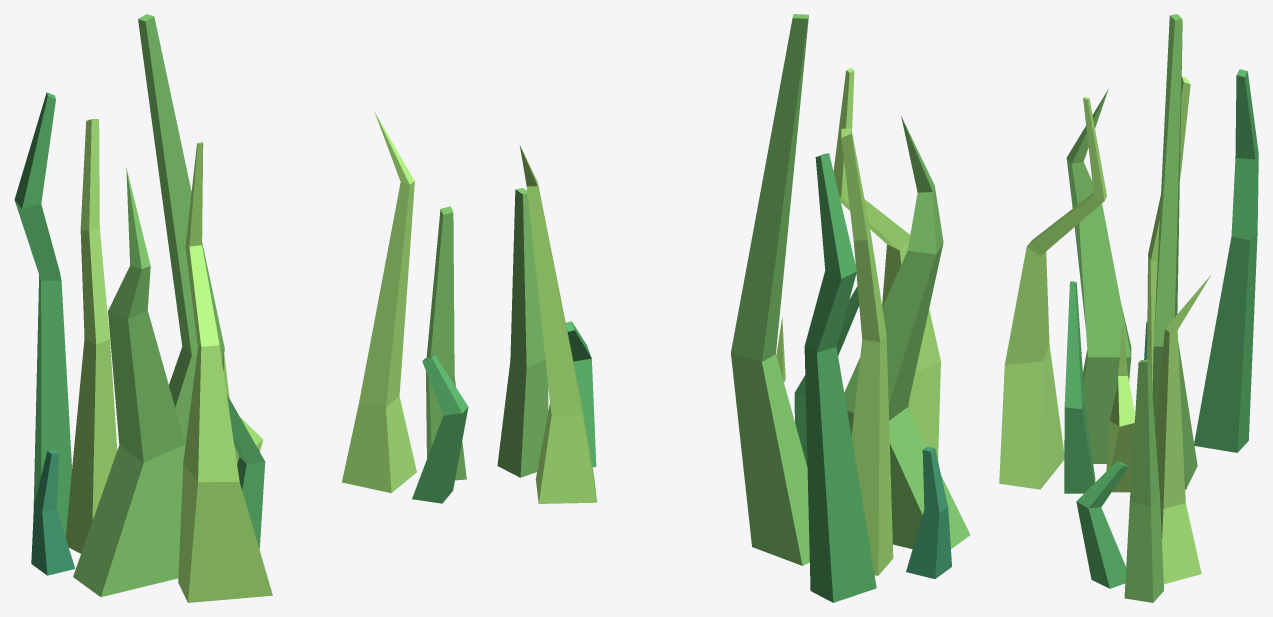
Rendered from Grass_8.fbx.
The picture shows the model from 3 angles, left to right: view 1: azimuth 30°, elevation 25°; view 2: azimuth 150°, elevation 25°; view 3: azimuth 270°, elevation 25°; orthographic projection. The views are drawn at different scales.
Visible parts, largest first — view 1: Grass_8; view 2: Grass_8; view 3: Grass_8.
Boxes of the visible parts, x1,y1,x2,y2 form: Grass_8: [14, 14, 468, 602]; Grass_8: [497, 14, 970, 602]; Grass_8: [999, 14, 1258, 602].
Bounding box in the file's own units: 62.75 × 72.31 × 37.42.
